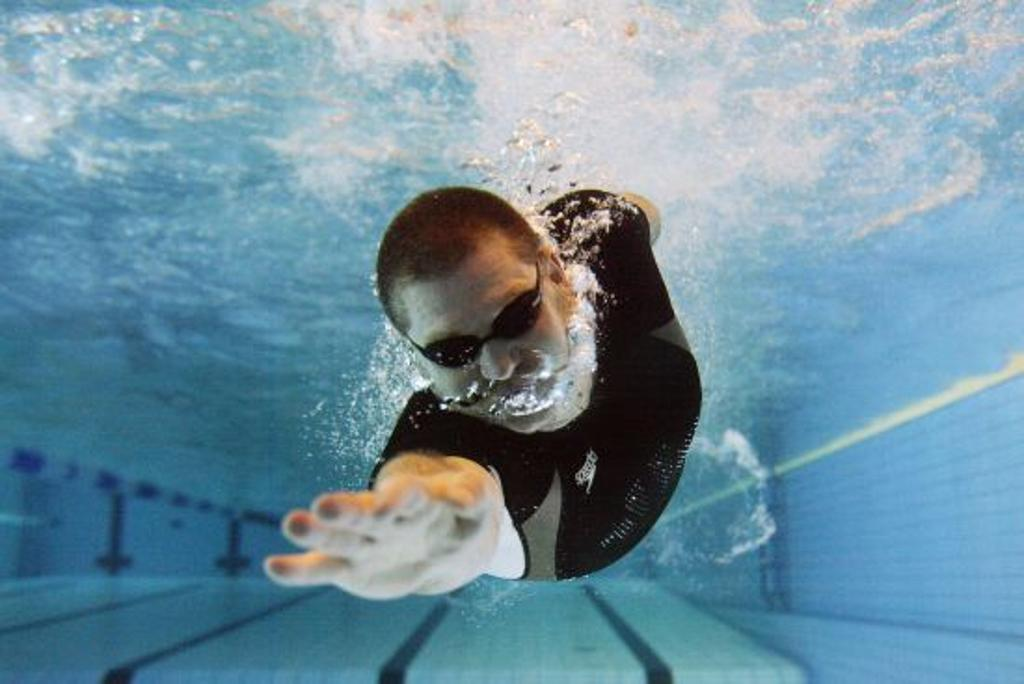face: (422, 274, 568, 422)
